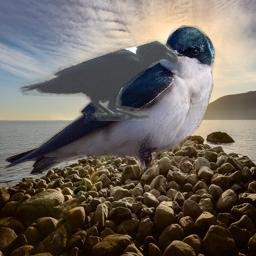Crow: (18, 39, 178, 121)
Swallow: (1, 25, 216, 175)
